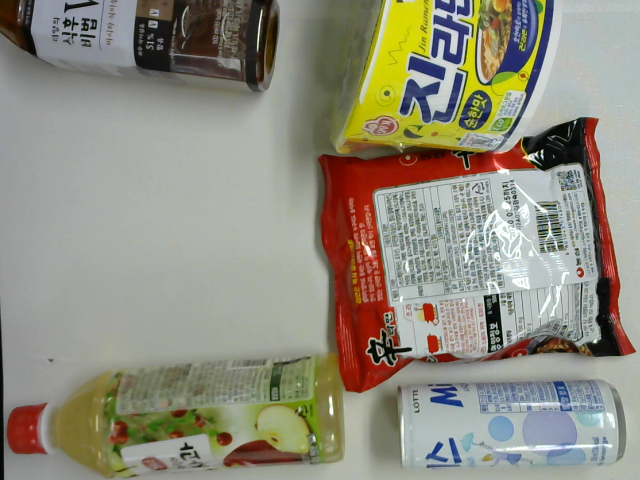Jinlamyeon_Mild_Taste_Large_Cup: (316, 1, 566, 160)
Milkies_250ml: (392, 375, 629, 474)
Morning_Apple_500ml: (1, 348, 348, 479)
Post-meal_recipe_W_tea_500ml: (1, 1, 283, 96)
Sinramen: (319, 115, 640, 396)
